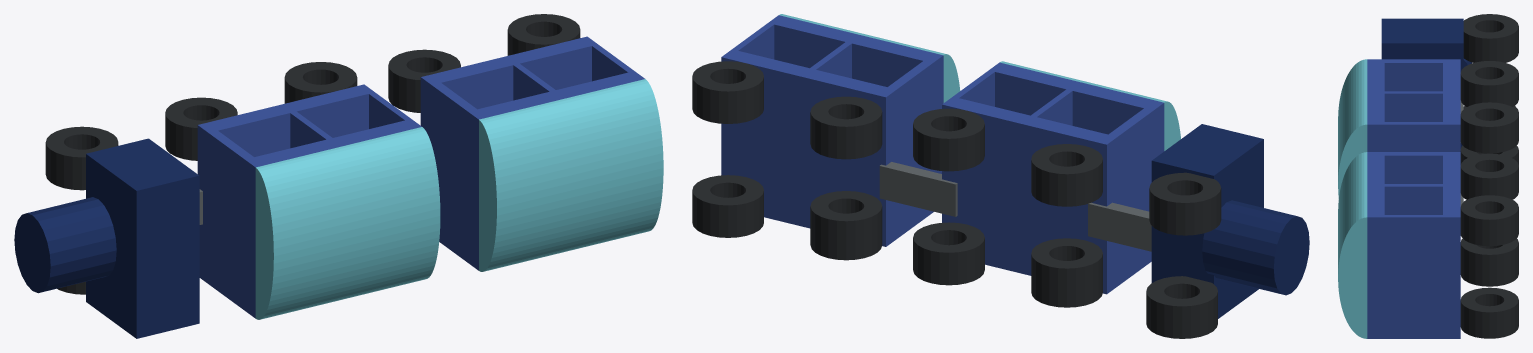
Rendered from tinker.obj.
The picture shows the model from 3 angles, left to right: view 1: azimuth 30°, elevation 25°; view 2: azimuth 150°, elevation 25°; view 3: azimuth 270°, elevation 25°; orthographic projection. The views are drawn at different scales.
Parts seen in each view (by area): view 1: group_0_7720667, group_0_3888547, group_0_1650274, group_0_2829873; view 2: group_0_3888547, group_0_2829873, group_0_1650274, group_0_6383466, group_0_7720667; view 3: group_0_3888547, group_0_2829873, group_0_7720667, group_0_1650274.
Boxes of the visible parts, left/top/right/bottom form: group_0_7720667: left=255, top=79, right=663, bottom=319; group_0_3888547: left=197, top=36, right=644, bottom=318; group_0_1650274: left=14, top=138, right=199, bottom=338; group_0_2829873: left=45, top=14, right=580, bottom=294; group_0_3888547: left=721, top=15, right=1164, bottom=294; group_0_2829873: left=692, top=61, right=1221, bottom=338; group_0_1650274: left=1151, top=124, right=1309, bottom=318; group_0_6383466: left=879, top=162, right=1151, bottom=251; group_0_7720667: left=779, top=14, right=1180, bottom=150; group_0_3888547: left=1367, top=59, right=1460, bottom=338; group_0_2829873: left=1460, top=14, right=1518, bottom=338; group_0_7720667: left=1338, top=59, right=1367, bottom=338; group_0_1650274: left=1381, top=18, right=1472, bottom=148.
Bounding box in the file's own units: 182 × 48 × 62.
